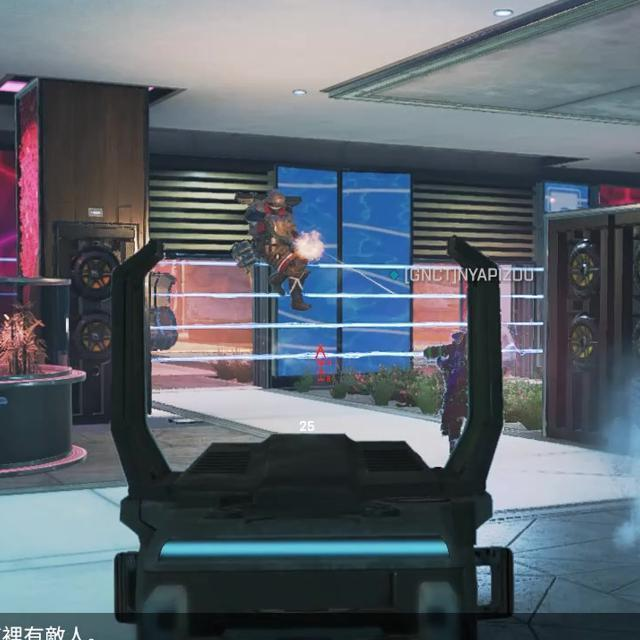avatar: (231, 189, 314, 314)
object: (293, 230, 324, 262)
